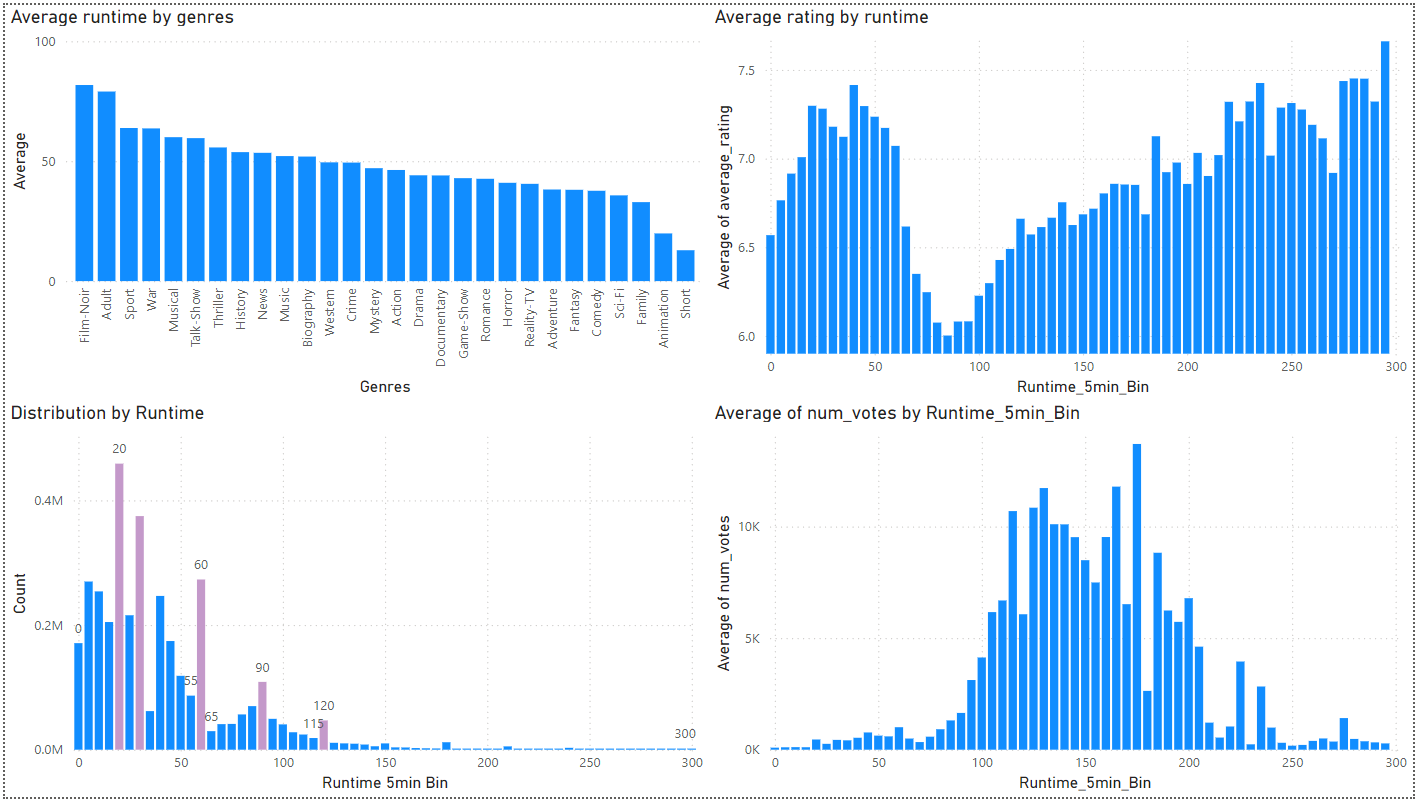

The page's visual inventory and layout, read from the dashboard file:
{"tool":"powerbi","page":{"name":"Runtime","canvas":[1280,720],"ordinal":1},"visuals":[{"type":"clusteredColumnChart","title":"Distribution by Runtime","fields":{"Y":["CountNonNull(title_basics.tconst)"],"Category":["title_basics.Runtime_5min_Bin"]},"box":[0,360,640,360],"z":0},{"type":"clusteredColumnChart","title":"Average runtime by genres","fields":{"Category":["title_genres.genres"],"Y":["Avg(title_genres.title_basics.runtime_minutes)"]},"box":[0,0,640,360],"z":1000},{"type":"clusteredColumnChart","title":"Average rating by runtime","fields":{"Category":["title_ratings.Runtime_5min_Bin"],"Y":["Avg(title_ratings.average_rating)"]},"box":[640,0,640,360],"z":2000},{"type":"clusteredColumnChart","fields":{"Y":["Avg(title_ratings.num_votes)"],"Category":["title_ratings.Runtime_5min_Bin"]},"box":[640,360,640,360],"z":3000}]}

Visuals, with their boxes in screenshot pixels (x1, y1, x2, y2), scaled from the page's 1280x720 canvas onto the 1418x801 screenshot:
"Distribution by Runtime" clusteredColumnChart: {"left": 0, "top": 400, "right": 709, "bottom": 800}
"Average runtime by genres" clusteredColumnChart: {"left": 0, "top": 0, "right": 709, "bottom": 400}
"Average rating by runtime" clusteredColumnChart: {"left": 709, "top": 0, "right": 1417, "bottom": 400}
clusteredColumnChart - Avg(title_ratings.num_votes) x title_ratings.Runtime_5min_Bin: {"left": 709, "top": 400, "right": 1417, "bottom": 800}
